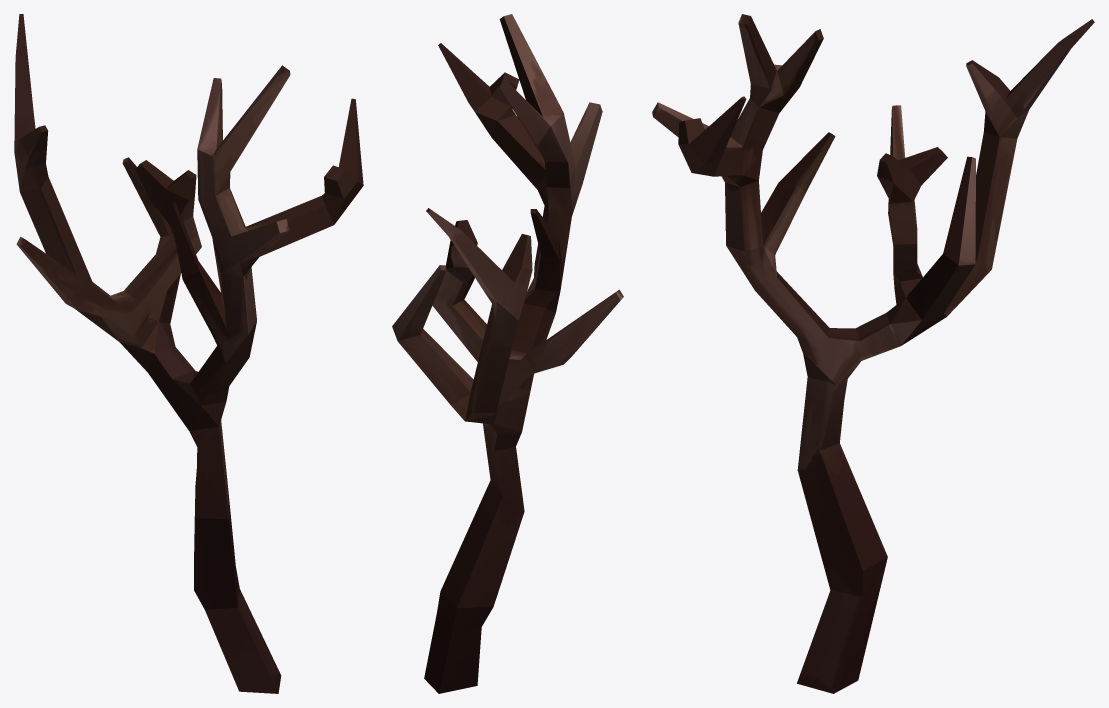
File: Tree03.fbx
3 renders of one model, left to right at view 1: azimuth 30°, elevation 25°; view 2: azimuth 150°, elevation 25°; view 3: azimuth 270°, elevation 25°, orthographic. The views are drawn at different scales.
Visible parts, largest first — view 1: Tree_03; view 2: Tree_03; view 3: Tree_03.
Part boxes in pixels (<box>): Tree_03: <box>14,14,363,693</box>; Tree_03: <box>392,14,623,693</box>; Tree_03: <box>652,14,1094,693</box>.
Bounding box in the file's own units: 1.87 × 4.43 × 2.7.
Materials: 1 (1 with a texture image).
